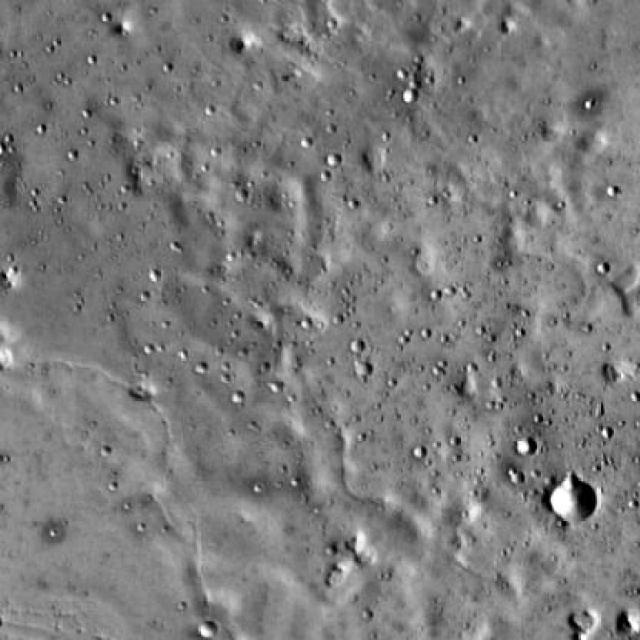crater: (549, 477, 597, 521), (512, 436, 534, 456), (197, 621, 217, 639), (356, 361, 372, 377), (402, 88, 418, 103)
